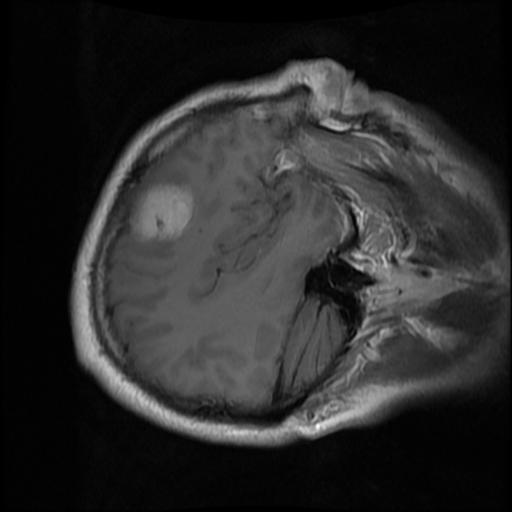meningioma: (126, 181, 193, 242)
